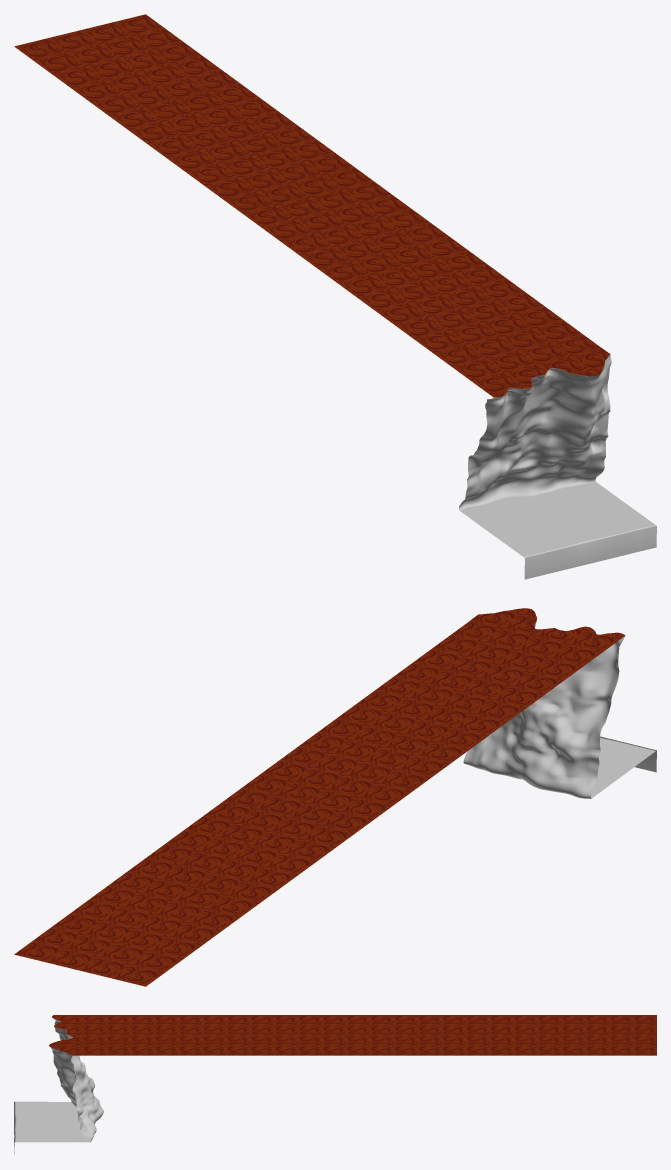
Rendered from cliff.fbx.
3 renders of one model, top to bottom at view 1: azimuth 30°, elevation 25°; view 2: azimuth 150°, elevation 25°; view 3: azimuth 270°, elevation 25°, orthographic. The views are drawn at different scales.
Parts seen in each view (by area): view 1: cliff, ground_plane_5, ground_plane_3, ground_plane_1, ground_plane_4, ground_plane_2, ground_plane_6, ground_plane_end; view 2: cliff, ground_plane_4, ground_plane_2, ground_plane_6, ground_plane_3, ground_plane_1, ground_plane_5, ground_plane_end; view 3: cliff, ground_plane_6, ground_plane_3, ground_plane_2, ground_plane_5, ground_plane_4, ground_plane_1, ground_plane_end.
Boxes of the visible parts, bbox=[...] form: cliff: bbox=[459, 354, 656, 579]; ground_plane_5: bbox=[318, 237, 525, 324]; ground_plane_3: bbox=[166, 125, 373, 213]; ground_plane_1: bbox=[14, 14, 221, 101]; ground_plane_4: bbox=[242, 181, 449, 268]; ground_plane_2: bbox=[90, 70, 297, 157]; ground_plane_6: bbox=[395, 293, 601, 380]; ground_plane_end: bbox=[471, 348, 610, 397]; cliff: bbox=[463, 621, 656, 798]; ground_plane_4: bbox=[242, 731, 449, 819]; ground_plane_2: bbox=[90, 843, 297, 930]; ground_plane_6: bbox=[395, 620, 602, 707]; ground_plane_3: bbox=[166, 787, 373, 875]; ground_plane_1: bbox=[14, 899, 221, 986]; ground_plane_5: bbox=[319, 676, 525, 763]; ground_plane_end: bbox=[471, 608, 625, 652]; cliff: bbox=[14, 1018, 103, 1154]; ground_plane_6: bbox=[82, 1015, 178, 1055]; ground_plane_3: bbox=[369, 1015, 465, 1055]; ground_plane_2: bbox=[465, 1015, 561, 1055]; ground_plane_5: bbox=[178, 1015, 273, 1055]; ground_plane_4: bbox=[274, 1015, 369, 1055]; ground_plane_1: bbox=[561, 1015, 656, 1055]; ground_plane_end: bbox=[49, 1015, 82, 1055].
Bounding box in the file's own units: 5001 × 5775 × 33523.
